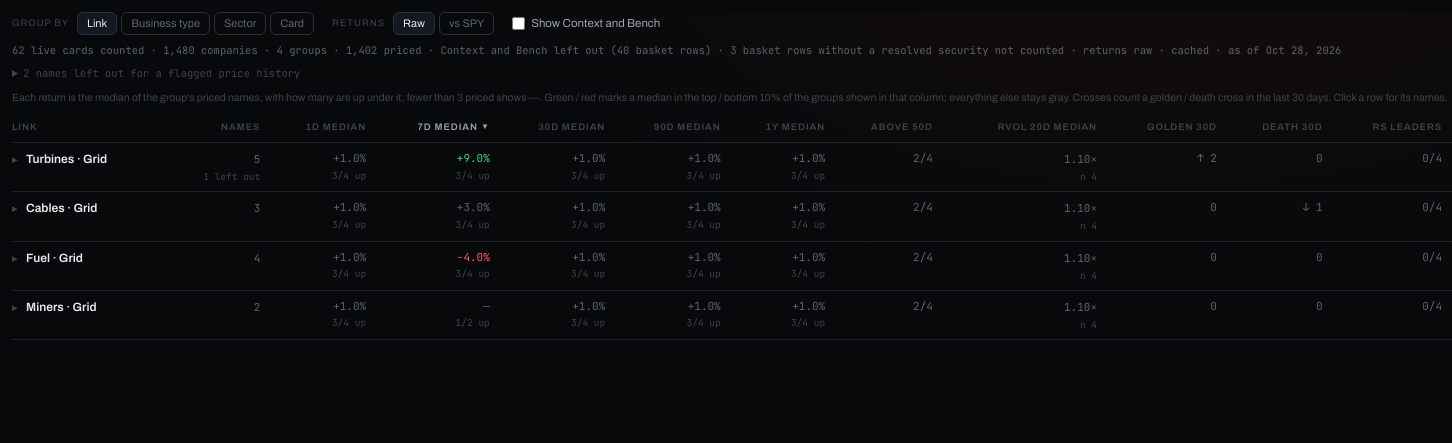
Rotation Map — a flagged price history › a group counts its left-out names, and expanded it lists the flagged name grayed with its reason
Expected: the text "1 left out" is shown, 203,170 -> 260,183
Click the row that starts with "Turbines · Grid" at (732, 167), box 12,142 -> 1451,192
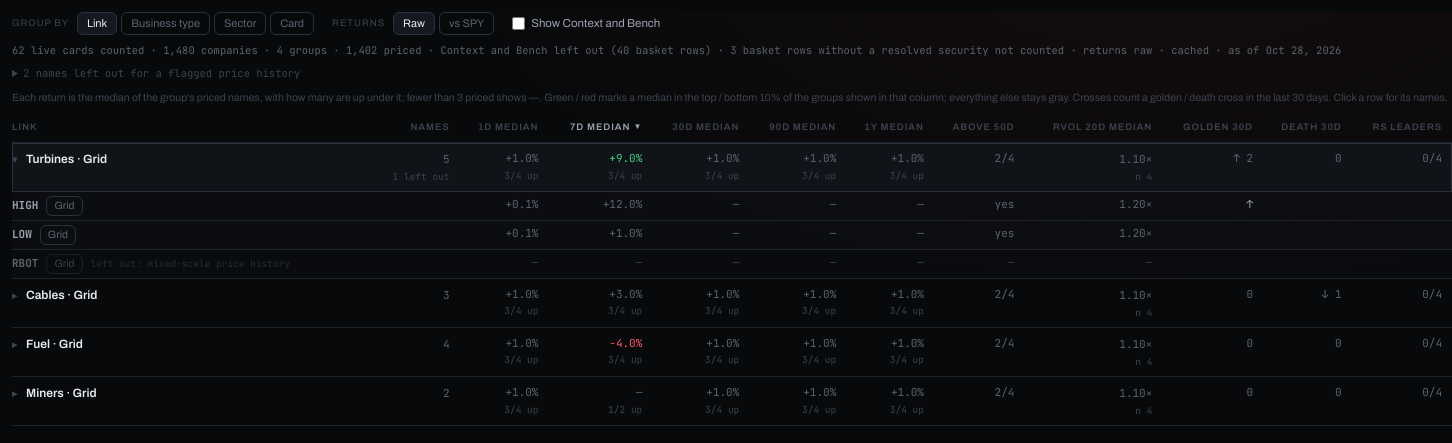
Result: the number of rows with class "flagged" is 1 at 12,249 -> 1451,278
